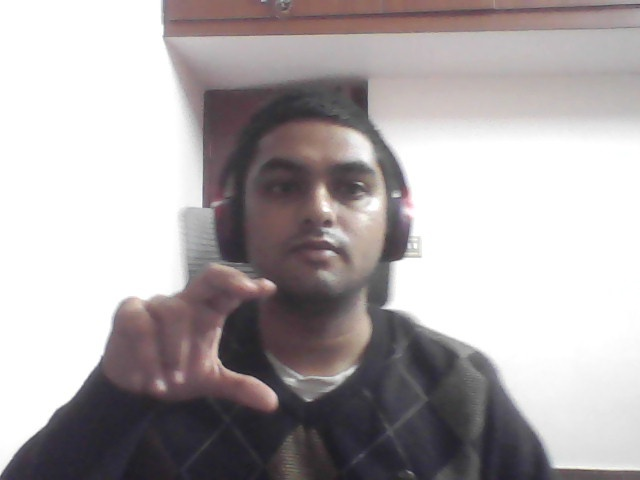No: (85, 246, 318, 438)
